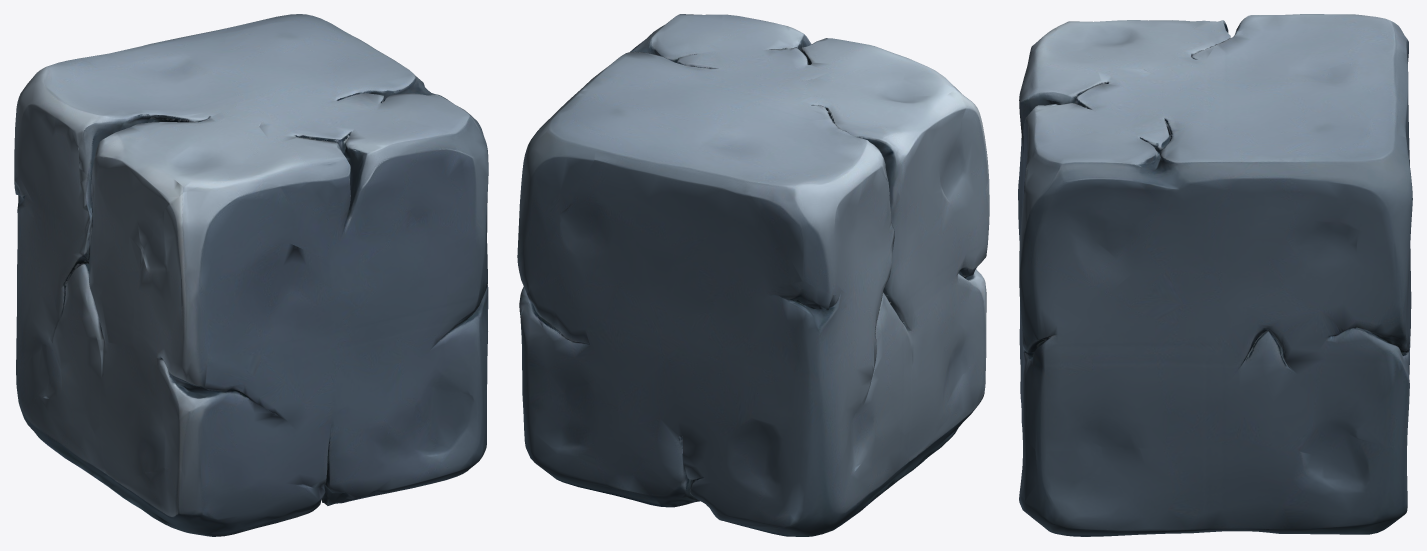
Rendered from kup_tas_parcali.glb.
The picture shows the model from 3 angles, left to right: view 1: azimuth 30°, elevation 25°; view 2: azimuth 150°, elevation 25°; view 3: azimuth 270°, elevation 25°; orthographic projection. The views are drawn at different scales.
Parts seen in each view (by area): view 1: p03, p09, p00, p10, p04, p06, p02, p11, p05, p07; view 2: p07, p05, p00, p04, p09, p03, p08, p11, p06, p02, p01, p10; view 3: p04, p08, p09, p00, p07, p03.
Part boxes in pixels (bbox=[...]): p03: bbox=[133, 174, 391, 475]; p09: bbox=[204, 69, 483, 395]; p00: bbox=[14, 56, 247, 261]; p10: bbox=[111, 381, 482, 536]; p04: bbox=[221, 14, 488, 390]; p06: bbox=[68, 332, 177, 480]; p02: bbox=[31, 206, 134, 347]; p11: bbox=[16, 322, 112, 489]; p05: bbox=[14, 179, 59, 377]; p07: bbox=[95, 27, 230, 75]; p07: bbox=[520, 122, 797, 397]; p05: bbox=[602, 279, 875, 527]; p00: bbox=[734, 65, 965, 299]; p04: bbox=[517, 14, 724, 313]; p09: bbox=[714, 14, 906, 126]; p03: bbox=[905, 57, 989, 348]; p08: bbox=[522, 388, 717, 518]; p11: bbox=[737, 368, 909, 536]; p06: bbox=[884, 298, 984, 463]; p02: bbox=[844, 212, 936, 369]; p01: bbox=[554, 340, 692, 420]; p10: bbox=[903, 349, 986, 476]; p04: bbox=[1019, 86, 1412, 452]; p08: bbox=[1022, 434, 1407, 536]; p09: bbox=[1019, 46, 1290, 443]; p00: bbox=[1053, 14, 1408, 77]; p07: bbox=[1287, 49, 1411, 448]; p03: bbox=[1018, 25, 1059, 354].
Bounding box in the file's own units: 0.9008 × 0.9793 × 0.9111.
2 materials, 1 textured.
